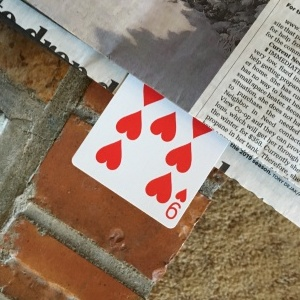card: (71, 70, 229, 230)
